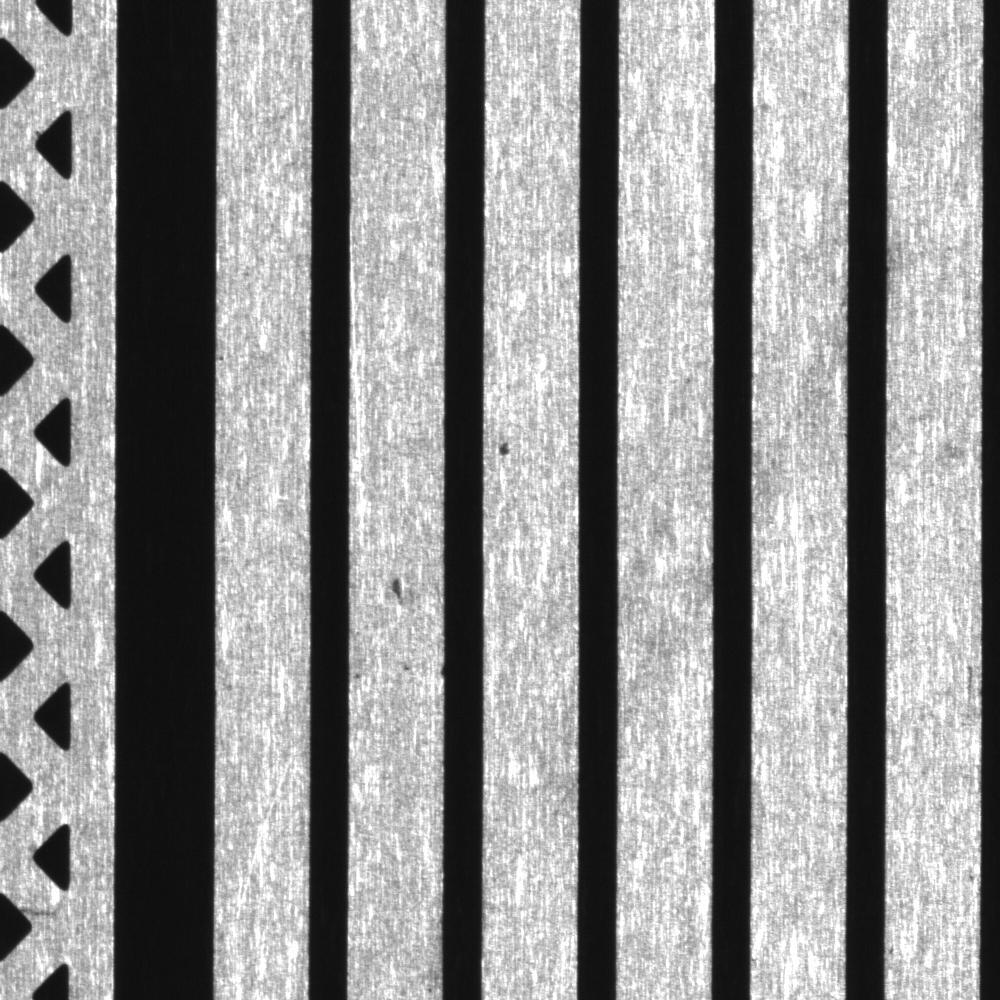Etching: (370, 559, 417, 612), (491, 426, 524, 474), (428, 649, 448, 698), (391, 649, 419, 680)
Pinhole: (351, 653, 372, 695)
